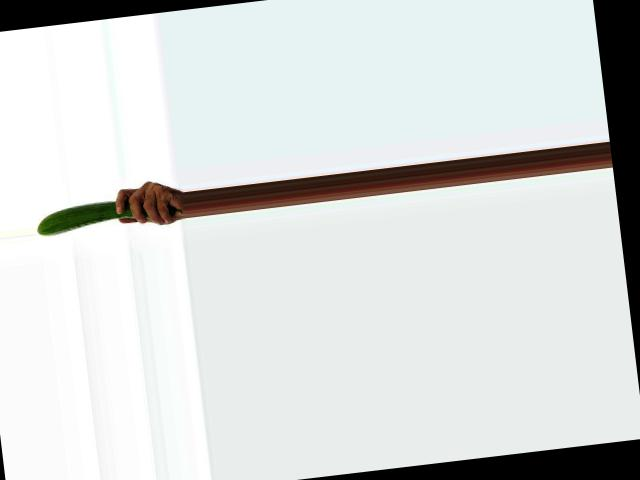cucumber: (34, 193, 182, 237)
